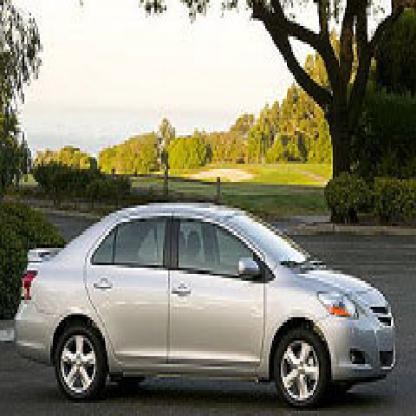Vehicle: (14, 203, 402, 413)
